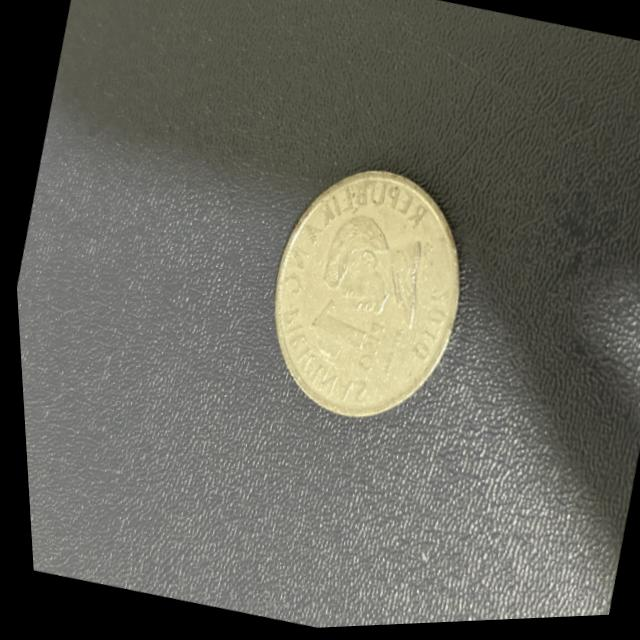1_Old_Front: (298, 296, 388, 382)
